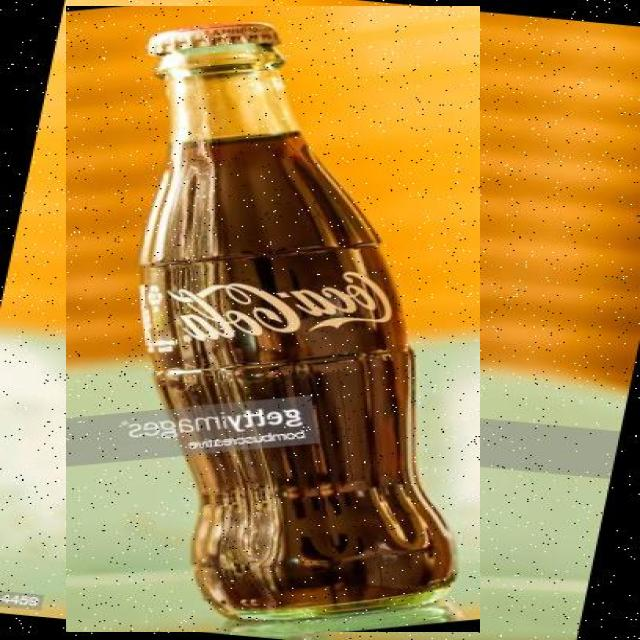coca-cola: (66, 6, 480, 632)
